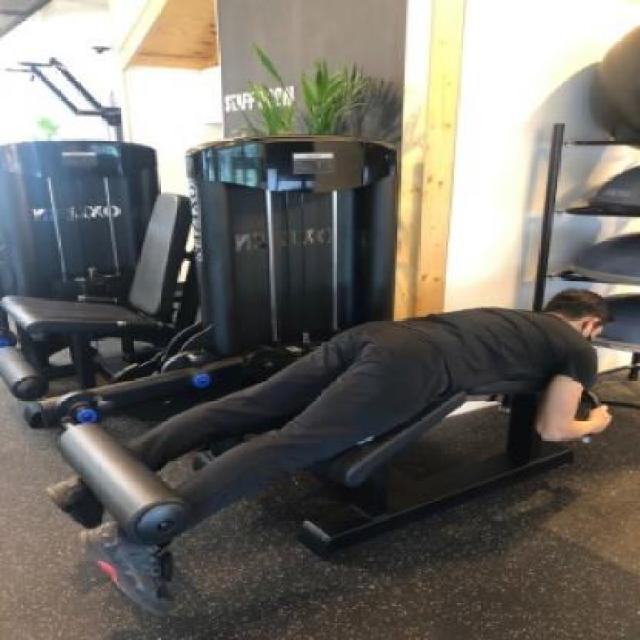reg curl machine: (20, 131, 626, 614)
